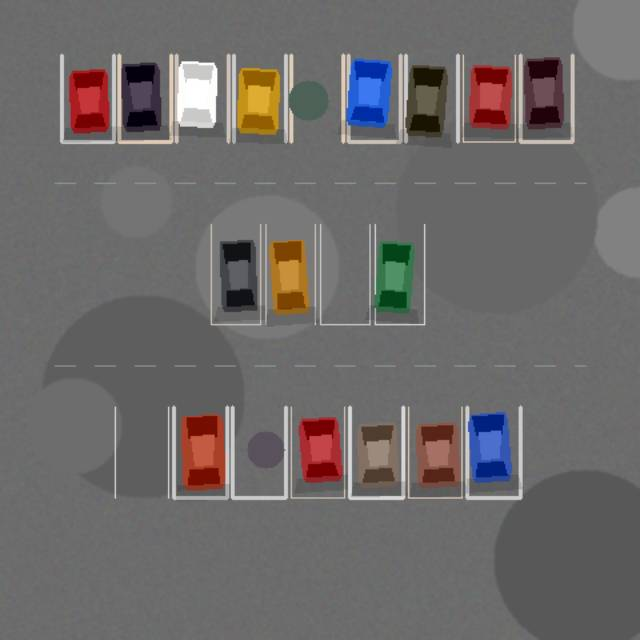space-empty: (320, 224, 369, 324), (115, 407, 168, 497), (232, 407, 285, 497), (291, 55, 343, 141)
space-occupied: (265, 224, 315, 324), (211, 224, 260, 324), (375, 224, 424, 324), (173, 407, 227, 497), (349, 407, 403, 497), (291, 407, 344, 497), (408, 407, 461, 497), (467, 407, 520, 497), (61, 55, 113, 141), (119, 55, 171, 141), (176, 55, 228, 141), (233, 55, 285, 141), (348, 55, 400, 141), (405, 55, 457, 141), (463, 55, 515, 141), (520, 55, 572, 141)
